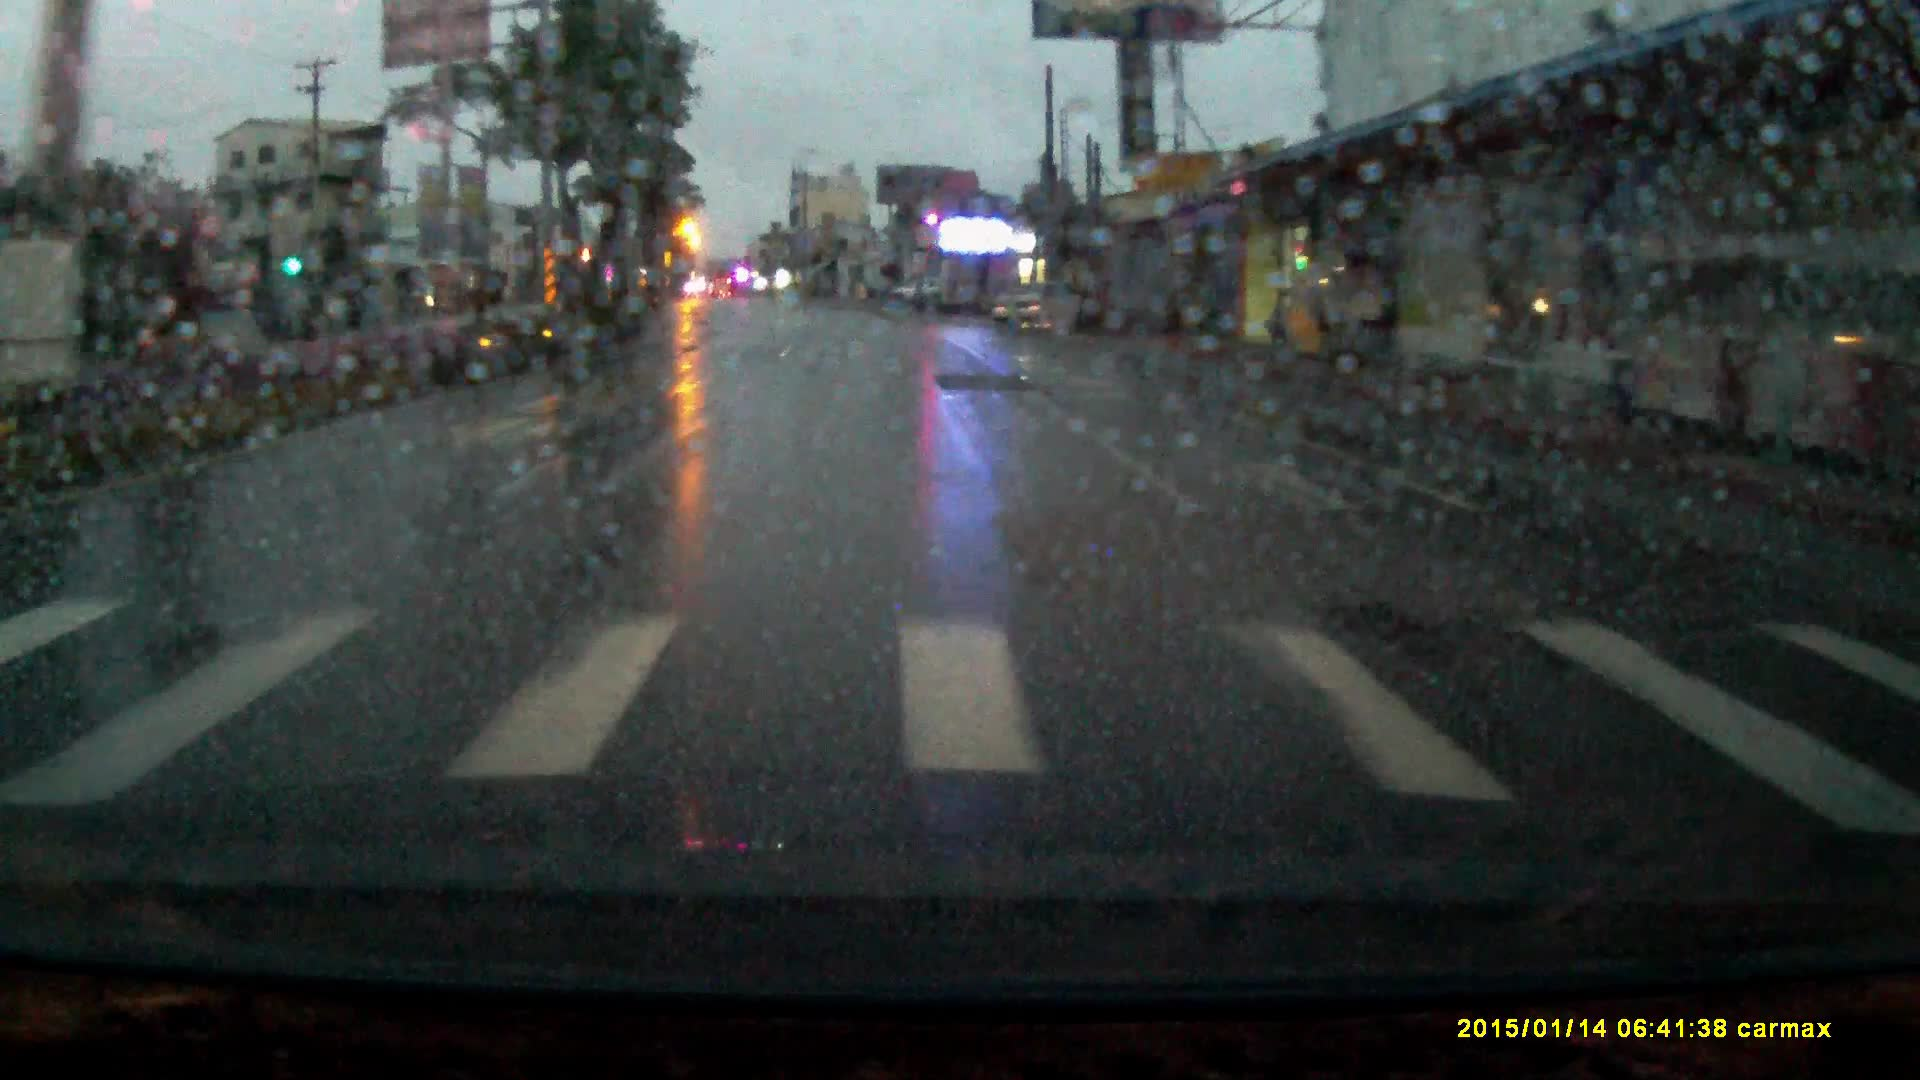vehicle: (996, 286, 1083, 332), (891, 278, 943, 307)
